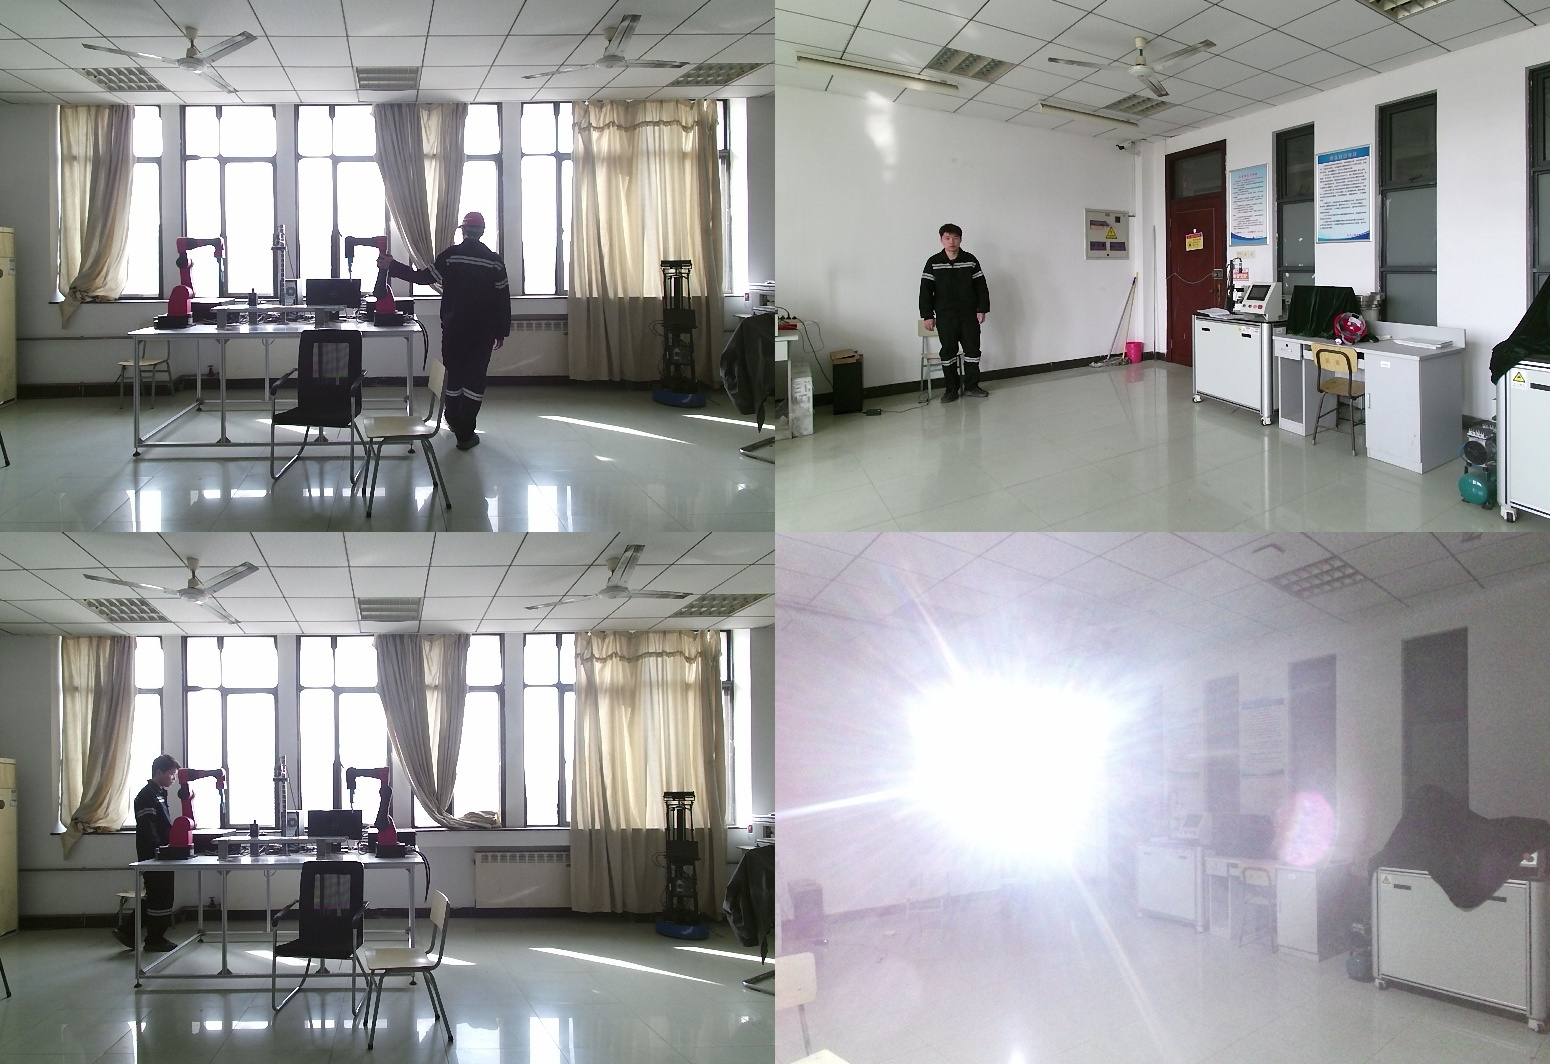person: (379, 213, 521, 452), (118, 753, 193, 959), (919, 226, 994, 405), (989, 763, 1045, 923)
